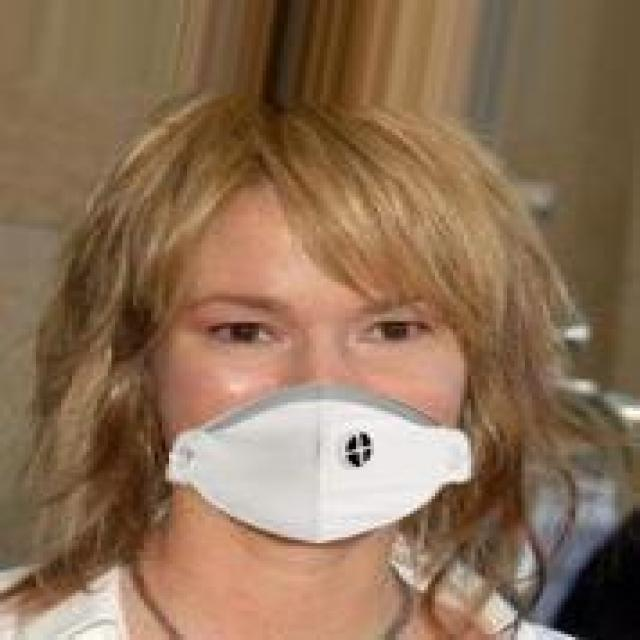mask: (50, 94, 550, 581)
